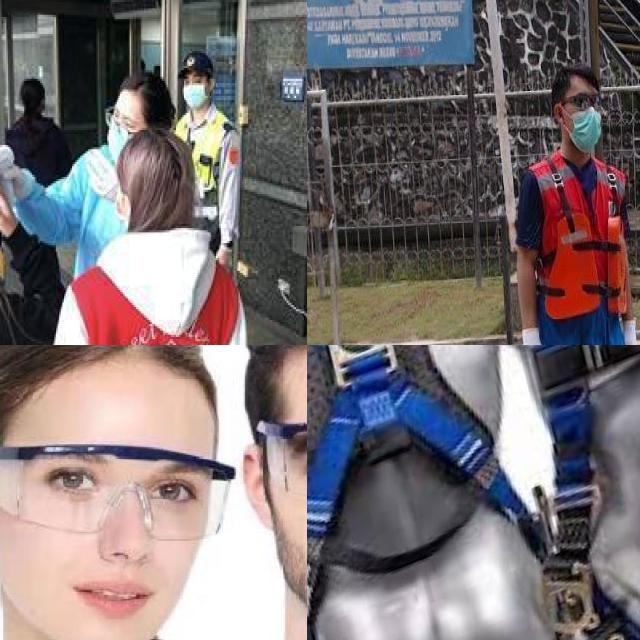Harness: (307, 345, 528, 540), (532, 345, 640, 490)
face_mask: (106, 103, 144, 163), (181, 70, 208, 109)
face_nomask: (20, 444, 204, 635)
glasses: (0, 444, 236, 542)
hand_glove: (86, 148, 122, 199)
hand_noglove: (0, 179, 17, 236)
head_nohelmet: (2, 345, 210, 396), (112, 128, 195, 234), (123, 66, 157, 119), (184, 49, 214, 81)
person: (0, 140, 60, 345)
vest: (525, 154, 627, 345), (175, 109, 230, 226)
